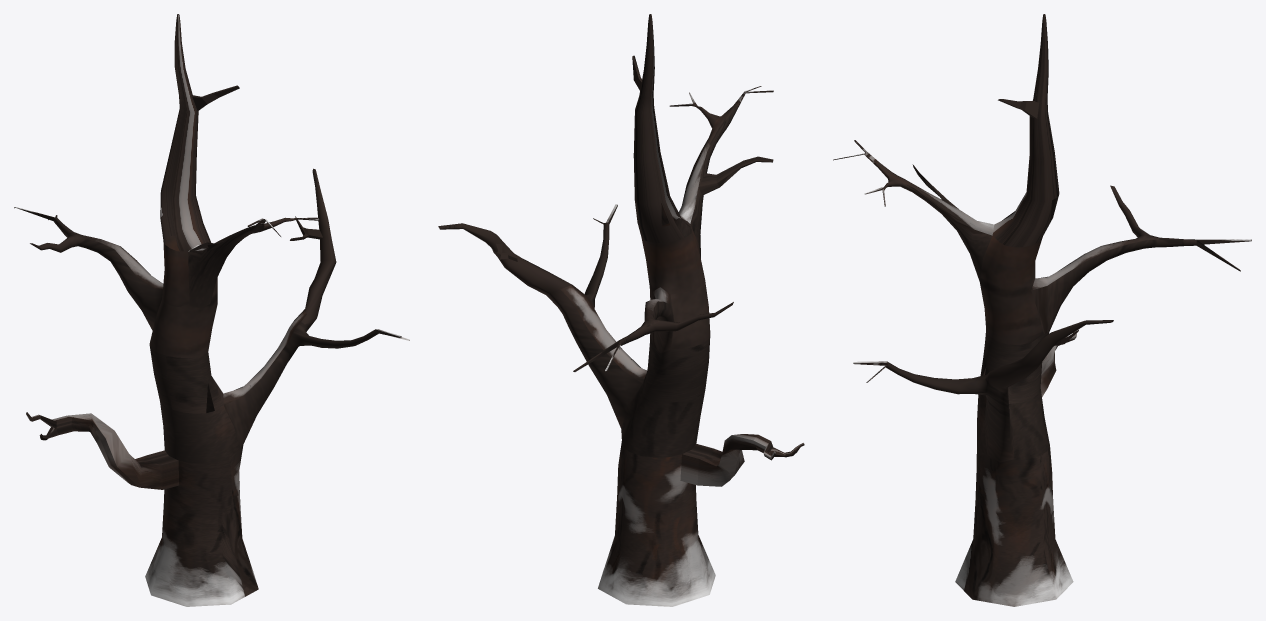
The model's file is tree.fbx.
3 renders of one model, left to right at view 1: azimuth 30°, elevation 25°; view 2: azimuth 150°, elevation 25°; view 3: azimuth 270°, elevation 25°, orthographic. The views are drawn at different scales.
Parts seen in each view (by area): view 1: polySurface3; view 2: polySurface3; view 3: polySurface3.
Boxes of the visible parts, bbox=[...] form: polySurface3: bbox=[14, 14, 409, 606]; polySurface3: bbox=[438, 14, 804, 606]; polySurface3: bbox=[833, 14, 1251, 606].
Bounding box in the file's own units: 7.72 × 13.13 × 8.85.
Materials: 1 (1 with a texture image).
